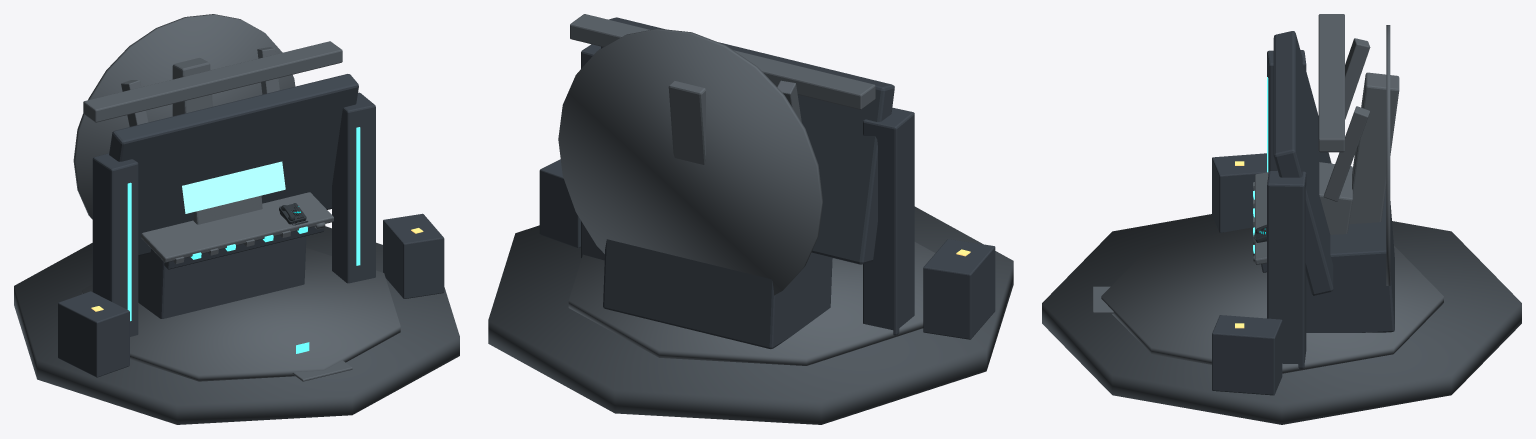
Rendered from quest_base_scene_v1.glb.
The picture shows the model from 3 angles, left to right: view 1: azimuth 30°, elevation 25°; view 2: azimuth 150°, elevation 25°; view 3: azimuth 270°, elevation 25°; orthographic projection. The views are drawn at different scales.
Parts seen in each view (by area): view 1: BasePlatform, MainPanelFrame, InnerPlatform, RearHalo, MainPedestal, RightDataPylon, LeftDataPylon, OverheadBridge, ConsoleShelf, LeftPlinth, RightPlinth, MainPanelScreen (+8 smaller); view 2: RearHalo, BasePlatform, MainPedestal, InnerPlatform, MainPanelFrame, LeftDataPylon, LeftPlinth, OverheadBridge, RearSpine, RightPlinth, RightDataPylon; view 3: BasePlatform, InnerPlatform, MainPanelFrame, MainPedestal, RightDataPylon, RightPlinth, RearSpine, OverheadBridge, LeftPlinth, PedestalNeck, BridgeStrut_R, RearHalo (+3 smaller).
Boxes of the visible parts, bbox=[...] form: BasePlatform: bbox=[14, 226, 459, 424]; MainPanelFrame: bbox=[109, 74, 358, 255]; InnerPlatform: bbox=[82, 248, 400, 381]; RearHalo: bbox=[73, 14, 295, 219]; MainPedestal: bbox=[138, 236, 306, 318]; RightDataPylon: bbox=[332, 92, 375, 283]; LeftDataPylon: bbox=[92, 153, 138, 336]; OverheadBridge: bbox=[83, 41, 342, 122]; ConsoleShelf: bbox=[141, 192, 333, 262]; LeftPlinth: bbox=[58, 291, 129, 377]; RightPlinth: bbox=[383, 213, 444, 298]; MainPanelScreen: bbox=[182, 161, 285, 213]; RearHalo: bbox=[558, 28, 822, 295]; BasePlatform: bbox=[488, 206, 1013, 424]; MainPedestal: bbox=[603, 239, 832, 349]; InnerPlatform: bbox=[568, 242, 935, 365]; MainPanelFrame: bbox=[601, 17, 894, 264]; LeftDataPylon: bbox=[863, 107, 914, 335]; LeftPlinth: bbox=[923, 239, 995, 339]; OverheadBridge: bbox=[570, 14, 875, 109]; RearSpine: bbox=[668, 80, 705, 164]; RightPlinth: bbox=[539, 159, 580, 248]; RightDataPylon: bbox=[581, 44, 604, 260]; BasePlatform: bbox=[1042, 214, 1521, 424]; InnerPlatform: bbox=[1101, 227, 1443, 373]; MainPanelFrame: bbox=[1273, 31, 1333, 295]; MainPedestal: bbox=[1306, 187, 1394, 332]; RightDataPylon: bbox=[1267, 171, 1306, 368]; RightPlinth: bbox=[1212, 315, 1282, 395]; RearSpine: bbox=[1349, 72, 1399, 224]; OverheadBridge: bbox=[1318, 14, 1344, 152]; LeftPlinth: bbox=[1212, 153, 1266, 232]; PedestalNeck: bbox=[1319, 162, 1352, 234]; BridgeStrut_R: bbox=[1323, 106, 1370, 201]; RearHalo: bbox=[1386, 25, 1390, 285].
Size of the model in its own units: 5.1 by 3.47 by 5.1.
Materials: 9 (1 with a texture image).
